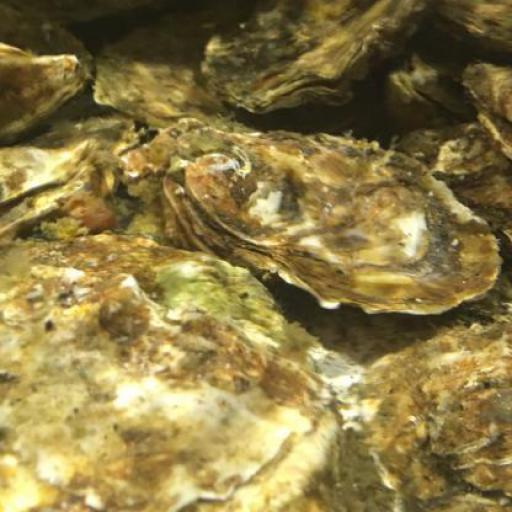Oyster-Closed: (1, 233, 342, 512), (159, 131, 497, 309), (340, 326, 512, 512), (212, 1, 425, 109), (1, 48, 90, 139)
Oyster-Open: (1, 144, 97, 238)
